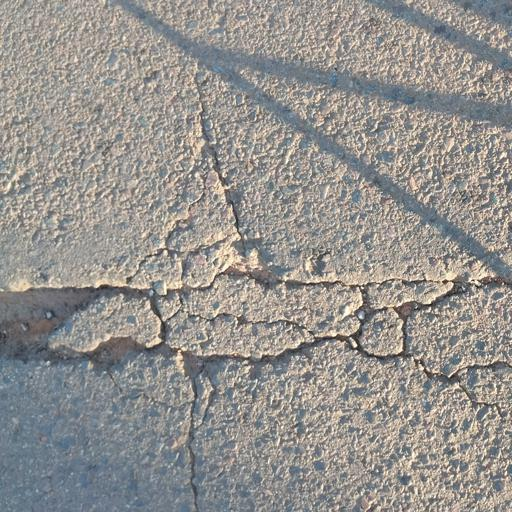GRIETA: (195, 75, 217, 161), (186, 424, 199, 511)
PIEL DE COCODRILO: (0, 163, 511, 431)
